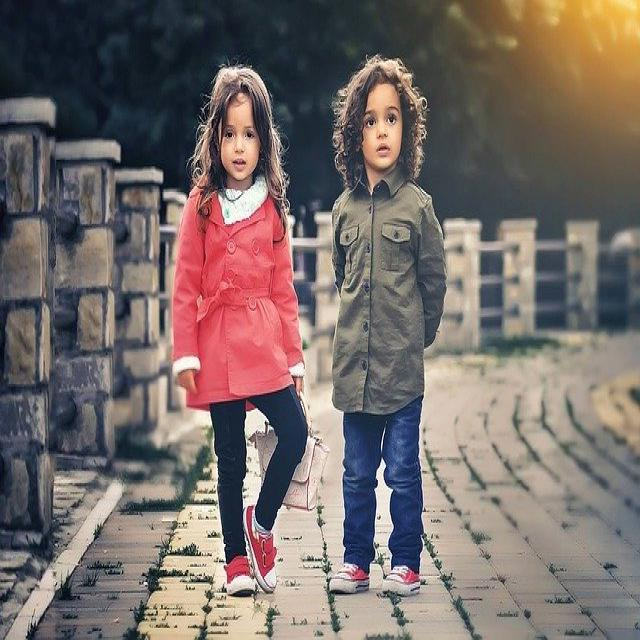child: (170, 61, 309, 594), (327, 53, 446, 598)
